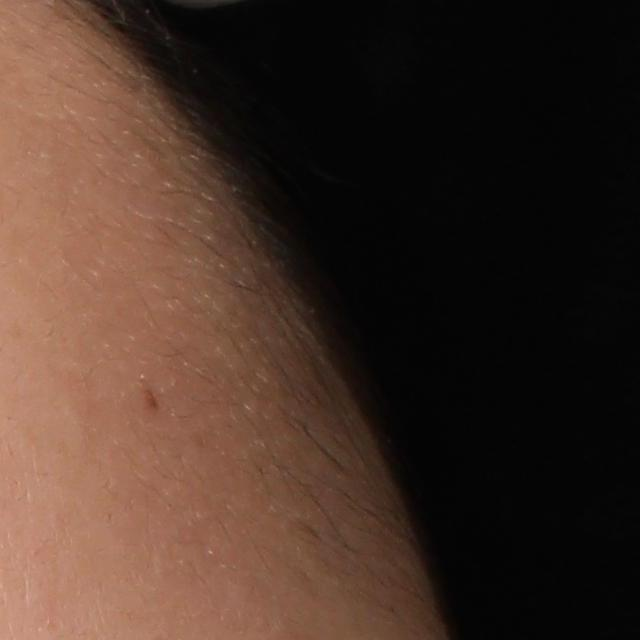nevus: (142, 385, 159, 410)
